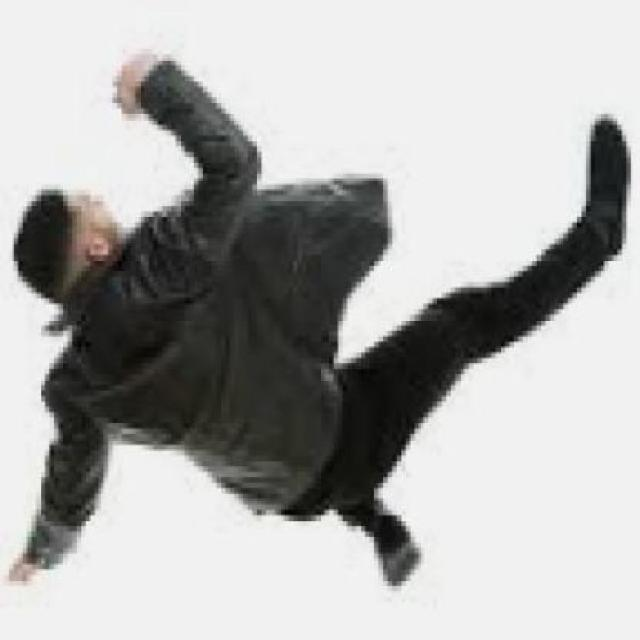fall: (14, 35, 628, 600)
